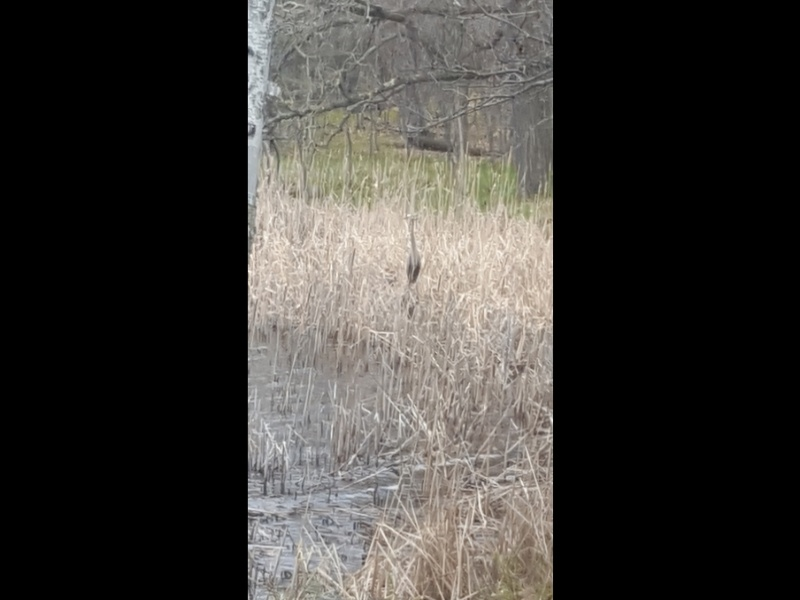heron: (401, 215, 422, 290)
